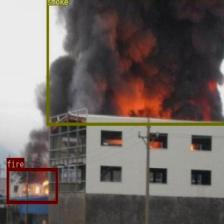fire: (6, 167, 57, 203)
smoke: (46, 0, 224, 124)
